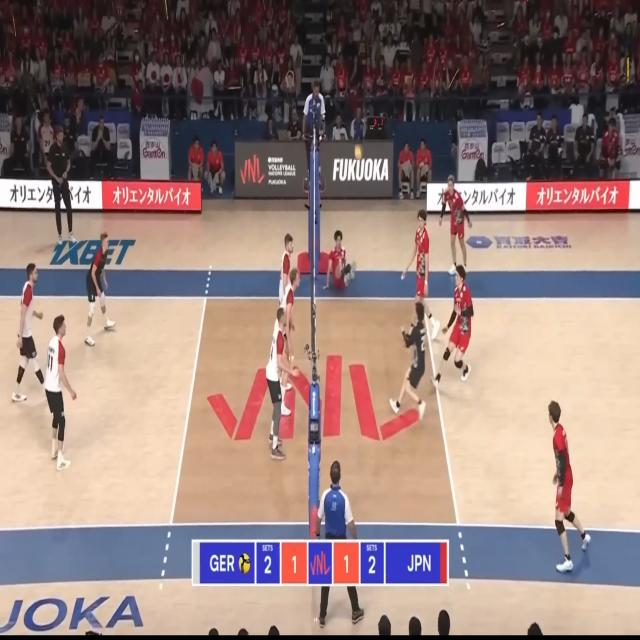ball: (354, 145, 362, 161)
